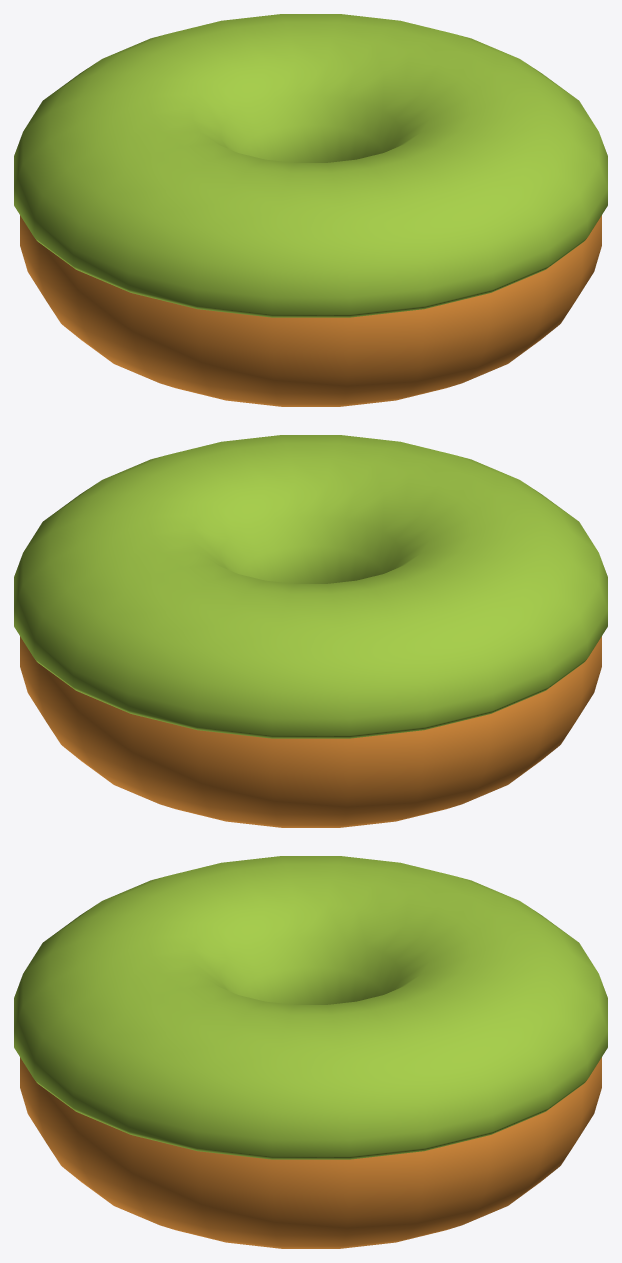
The model's file is donut_08.fbx.
3 renders of one model, top to bottom at view 1: azimuth 30°, elevation 25°; view 2: azimuth 150°, elevation 25°; view 3: azimuth 270°, elevation 25°, orthographic.
Parts seen in each view (by area): view 1: donut_08; view 2: donut_08; view 3: donut_08.
Part boxes in pixels (bbox=[...]): donut_08: bbox=[14, 14, 607, 406]; donut_08: bbox=[14, 435, 607, 827]; donut_08: bbox=[14, 856, 607, 1248].
Size of the model in its own units: 1716 by 688 by 1716.
